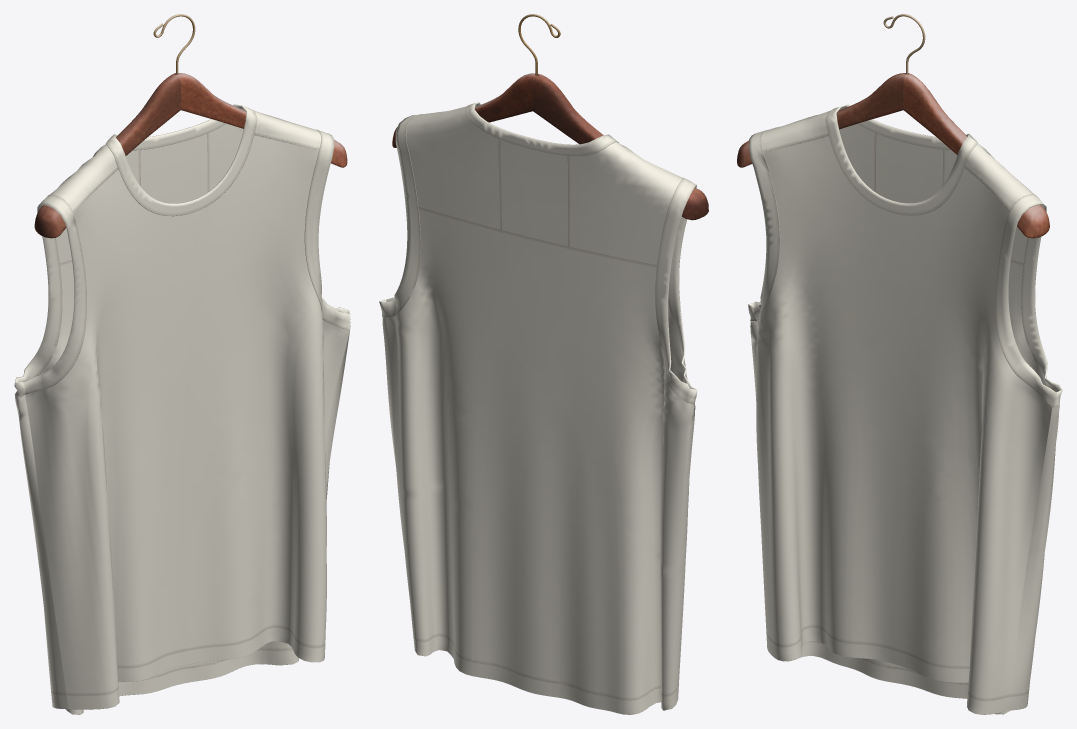
Rendered from Product_TopB_0.5x0.9x0.1.glb.
3 renders of one model, left to right at view 1: azimuth 30°, elevation 25°; view 2: azimuth 150°, elevation 25°; view 3: azimuth 330°, elevation 25°, orthographic.
Visible parts, largest first — view 1: Sleeveless; view 2: Sleeveless; view 3: Sleeveless.
Part boxes in pixels (x1=…): Sleeveless: x1=14, y1=14, x2=350, y2=714; Sleeveless: x1=379, y1=14, x2=708, y2=714; Sleeveless: x1=737, y1=14, x2=1062, y2=714.
Bounding box in the file's own units: 0.4586 × 0.9061 × 0.1076.
1 material, 1 textured.
